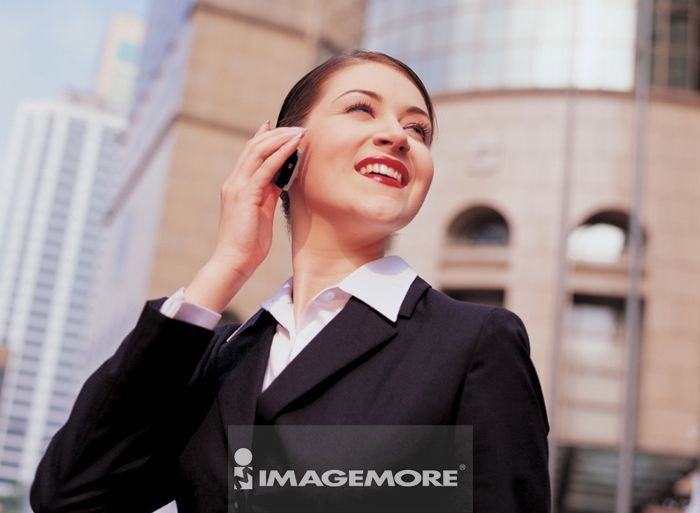talk: (218, 83, 433, 286)
